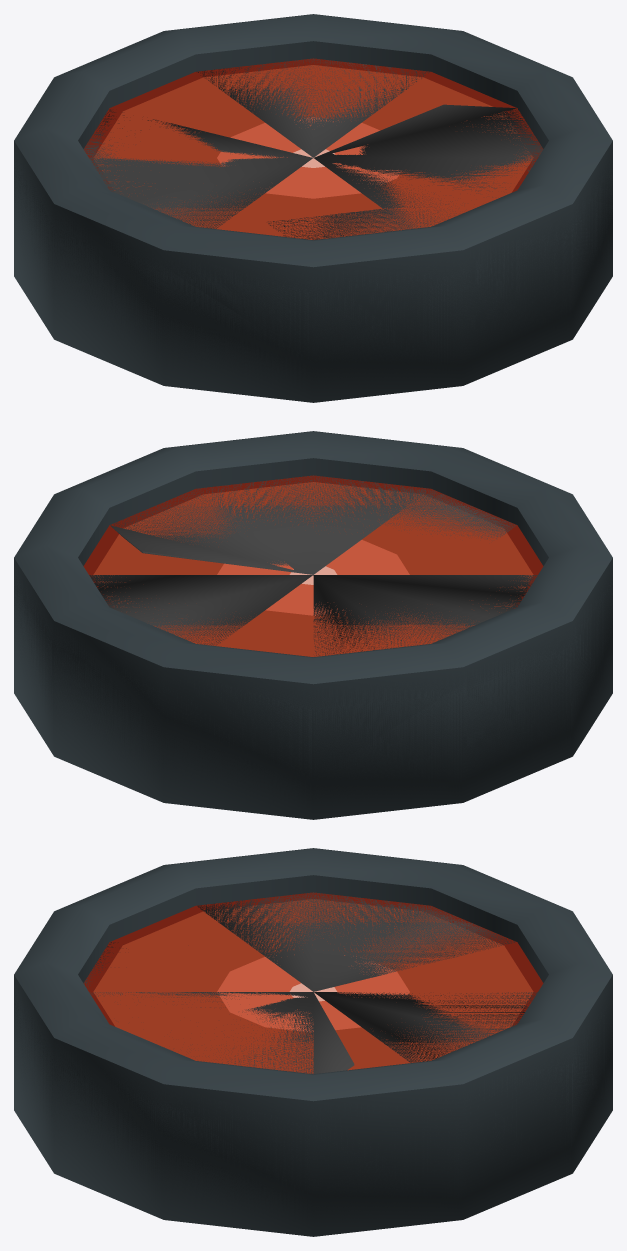
Rendered from Eye.fbx.
3 renders of one model, top to bottom at view 1: azimuth 30°, elevation 25°; view 2: azimuth 150°, elevation 25°; view 3: azimuth 270°, elevation 25°, orthographic.
Visible parts, largest first — view 1: Cylinder, Cylinder.001; view 2: Cylinder, Cylinder.001; view 3: Cylinder, Cylinder.001.
Part boxes in pixels (x1,y1,x2,y2): Cylinder: (14,14,612,402); Cylinder.001: (14,58,612,402); Cylinder: (14,431,612,819); Cylinder.001: (14,475,612,819); Cylinder: (14,848,612,1236); Cylinder.001: (14,892,612,1236).
Bounding box in the file's own units: 200 × 54.54 × 200.
Materials: 1 (1 with a texture image).
